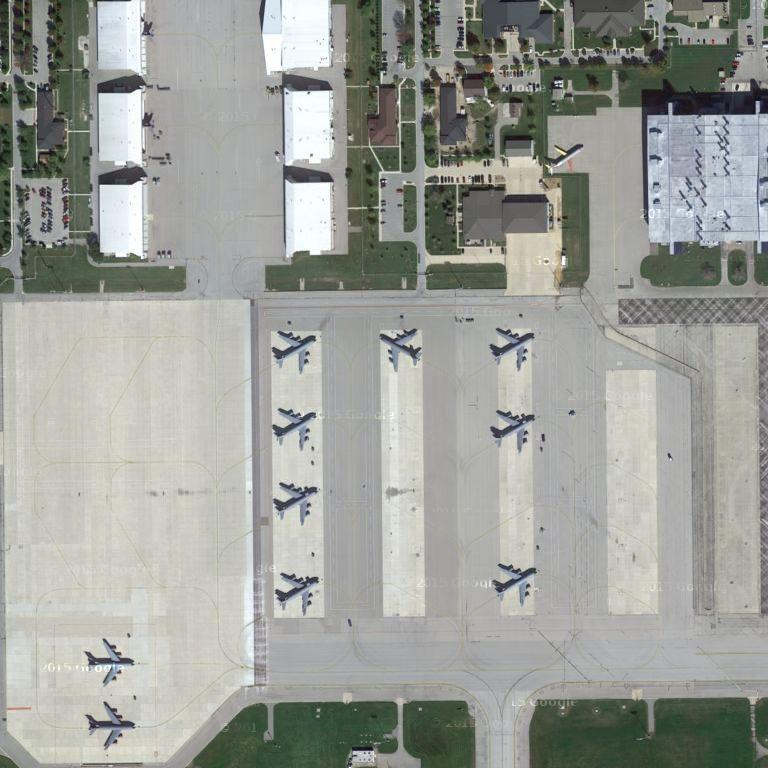KC-135: (82, 700, 142, 750), (82, 636, 139, 686), (487, 321, 534, 373), (272, 476, 319, 526), (377, 325, 425, 373), (489, 559, 538, 606), (271, 325, 316, 376), (490, 403, 536, 452), (270, 405, 319, 450), (276, 569, 319, 615)
